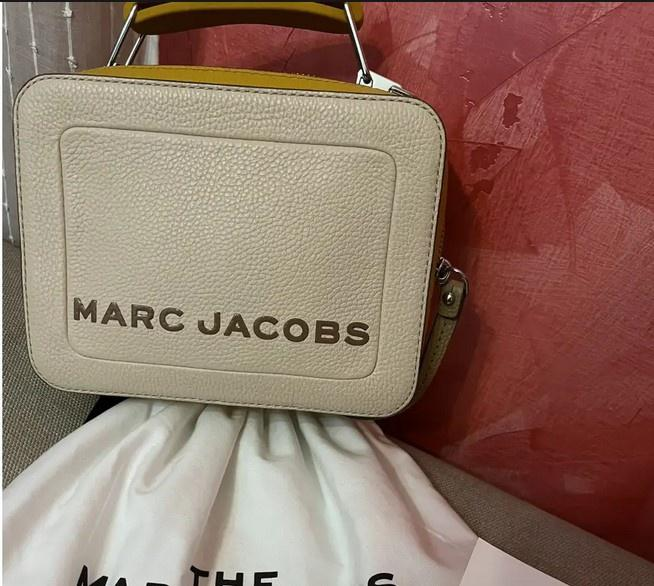MARC-JACOBS: (74, 297, 370, 346)
